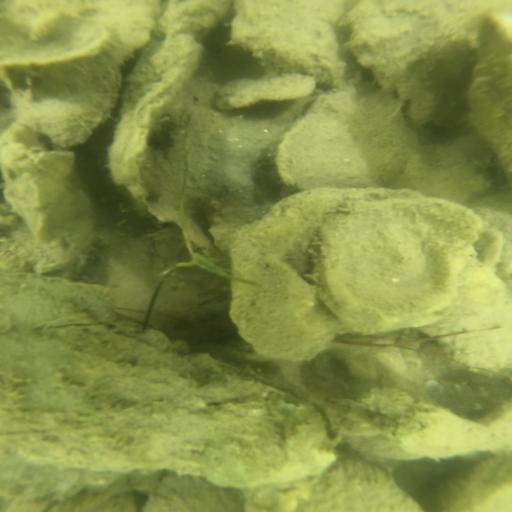Oyster-Closed: (234, 188, 431, 361), (11, 1, 165, 148), (347, 4, 475, 124), (113, 33, 204, 193), (2, 135, 96, 270), (233, 9, 344, 88), (279, 95, 372, 188), (469, 20, 509, 181), (306, 458, 424, 510), (152, 266, 234, 339), (163, 2, 224, 39)
Oyster-Open: (1, 323, 346, 481), (317, 191, 506, 331)
